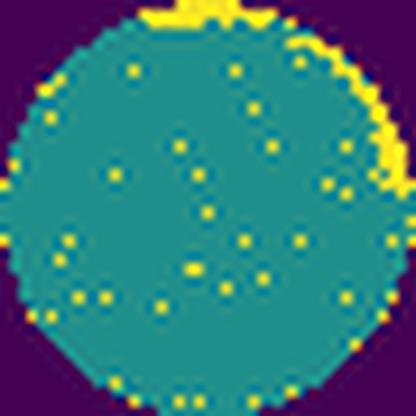Edge-Loc: (281, 30, 416, 198), (133, 0, 277, 33)
